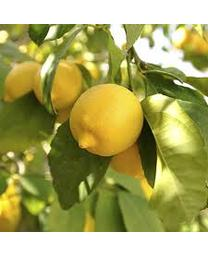lemon: (69, 82, 144, 154), (37, 60, 82, 109)
